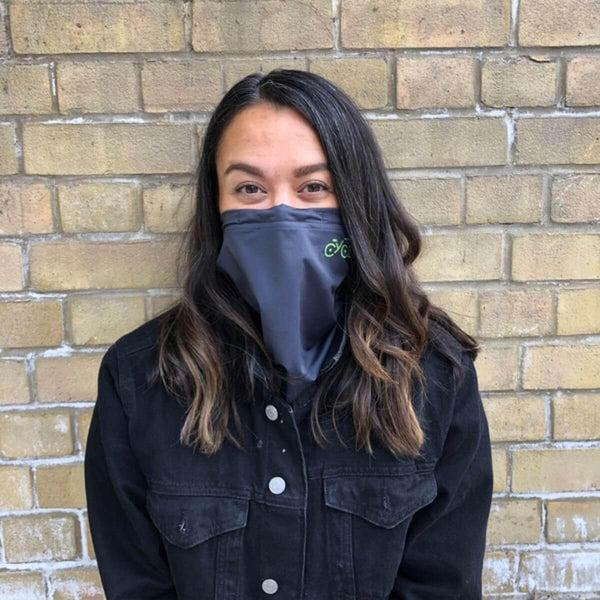scarf-kerchief: (210, 197, 377, 393)
